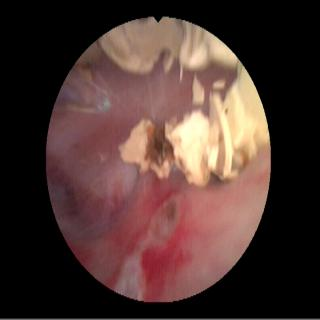stone: (120, 69, 269, 187), (79, 20, 238, 83)
tissue: (49, 65, 269, 295)
